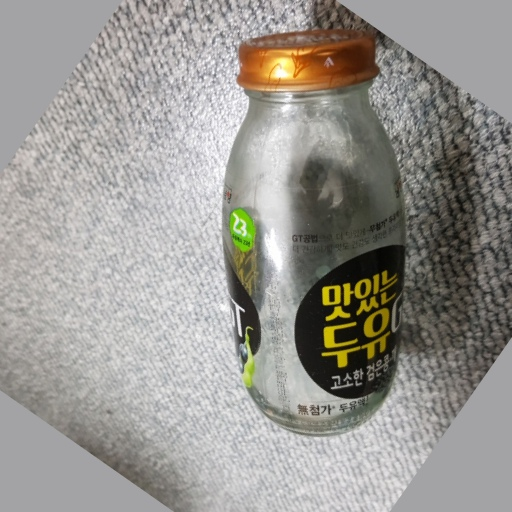Glass_4: (222, 25, 411, 434)
